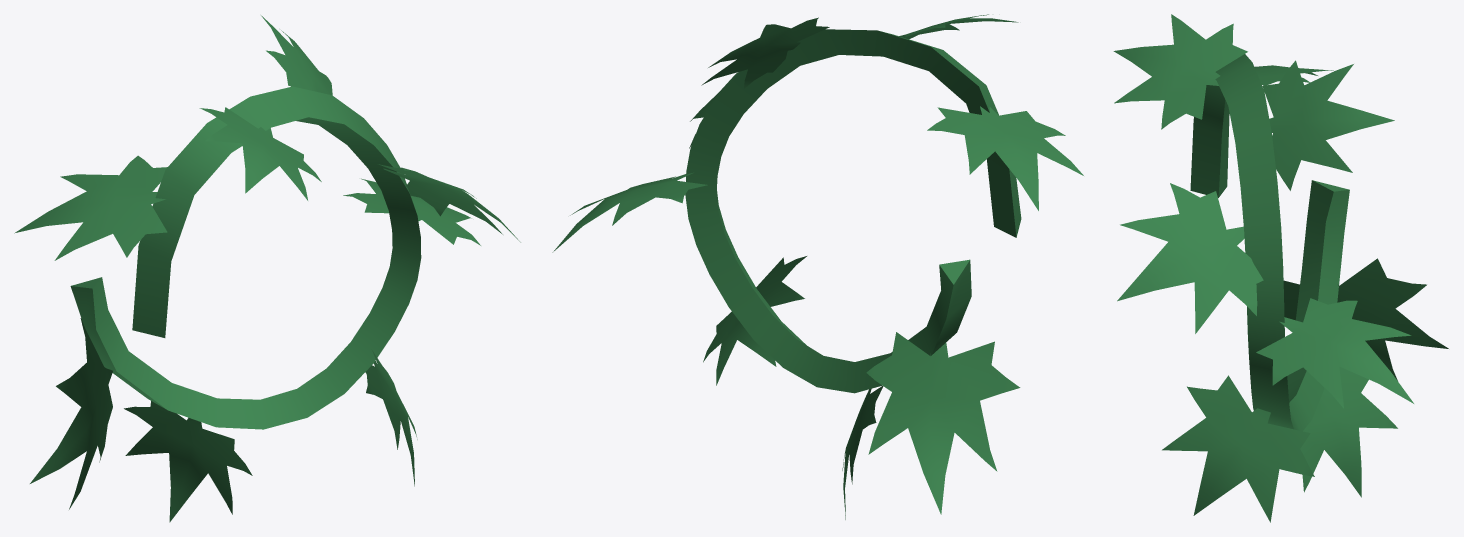
Rendered from vine_Q_alangium_loop.fbx.
The picture shows the model from 3 angles, left to right: view 1: azimuth 30°, elevation 25°; view 2: azimuth 150°, elevation 25°; view 3: azimuth 270°, elevation 25°; orthographic projection. The views are drawn at different scales.
Visible parts, largest first — view 1: vine_Q_scanden_loop_root, vine_alangium_A_leaf_B127, vine_alangium_A_leaf_B, vine_alangium_A_leaf_B122, vine_alangium_A_leaf_B123, vine_alangium_A_leaf_B124, vine_alangium_A_leaf_B125, vine_alangium_A_leaf_B126, vine_alangium_A_leaf_B128; view 2: vine_Q_scanden_loop_root, vine_alangium_A_leaf_B122, vine_alangium_A_leaf_B127, vine_alangium_A_leaf_B126, vine_alangium_A_leaf_B128, vine_alangium_A_leaf_B125, vine_alangium_A_leaf_B, vine_alangium_A_leaf_B123; view 3: vine_Q_scanden_loop_root, vine_alangium_A_leaf_B124, vine_alangium_A_leaf_B128, vine_alangium_A_leaf_B125, vine_alangium_A_leaf_B126, vine_alangium_A_leaf_B123, vine_alangium_A_leaf_B, vine_alangium_A_leaf_B122, vine_alangium_A_leaf_B127.
Part boxes in pixels (bbox=[...]): vine_Q_scanden_loop_root: bbox=[70, 86, 421, 429]; vine_alangium_A_leaf_B127: bbox=[14, 155, 167, 260]; vine_alangium_A_leaf_B: bbox=[124, 401, 252, 522]; vine_alangium_A_leaf_B122: bbox=[30, 318, 112, 509]; vine_alangium_A_leaf_B123: bbox=[199, 107, 321, 200]; vine_alangium_A_leaf_B124: bbox=[378, 164, 520, 242]; vine_alangium_A_leaf_B125: bbox=[343, 178, 480, 245]; vine_alangium_A_leaf_B126: bbox=[261, 15, 332, 95]; vine_alangium_A_leaf_B128: bbox=[365, 350, 417, 486]; vine_Q_scanden_loop_root: bbox=[685, 29, 1021, 393]; vine_alangium_A_leaf_B122: bbox=[866, 332, 1020, 514]; vine_alangium_A_leaf_B127: bbox=[927, 106, 1083, 210]; vine_alangium_A_leaf_B126: bbox=[701, 17, 829, 88]; vine_alangium_A_leaf_B128: bbox=[703, 256, 806, 385]; vine_alangium_A_leaf_B125: bbox=[552, 172, 707, 252]; vine_alangium_A_leaf_B: bbox=[842, 386, 883, 519]; vine_alangium_A_leaf_B123: bbox=[899, 14, 1018, 39]; vine_Q_scanden_loop_root: bbox=[1190, 54, 1349, 431]; vine_alangium_A_leaf_B124: bbox=[1117, 183, 1263, 333]; vine_alangium_A_leaf_B128: bbox=[1162, 375, 1314, 522]; vine_alangium_A_leaf_B125: bbox=[1256, 298, 1413, 408]; vine_alangium_A_leaf_B126: bbox=[1262, 60, 1394, 190]; vine_alangium_A_leaf_B123: bbox=[1113, 14, 1247, 129]; vine_alangium_A_leaf_B: bbox=[1300, 366, 1397, 497]; vine_alangium_A_leaf_B122: bbox=[1283, 258, 1448, 380]; vine_alangium_A_leaf_B127: bbox=[1254, 65, 1333, 85].
Bounding box in the file's own units: 55.98 × 54.93 × 35.26.
